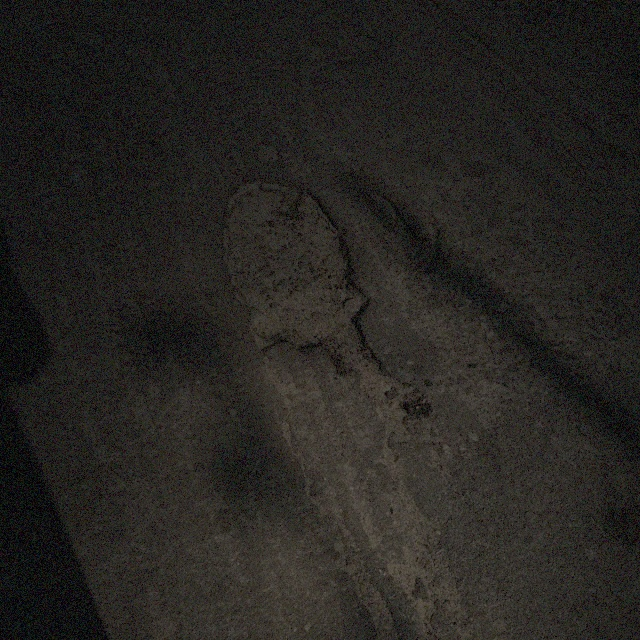pothole: (216, 175, 430, 414), (367, 188, 447, 271), (121, 41, 183, 105), (332, 23, 386, 58), (52, 26, 108, 45), (254, 142, 284, 164)
